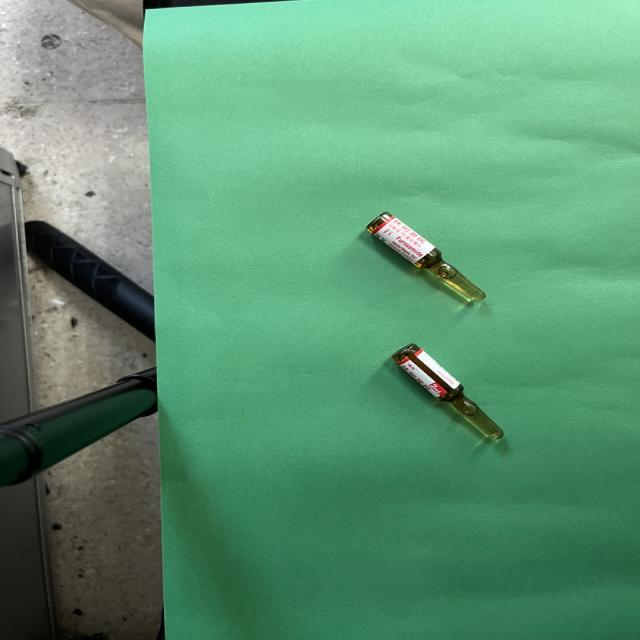Ampoules: (367, 212, 485, 302), (392, 344, 503, 439)
